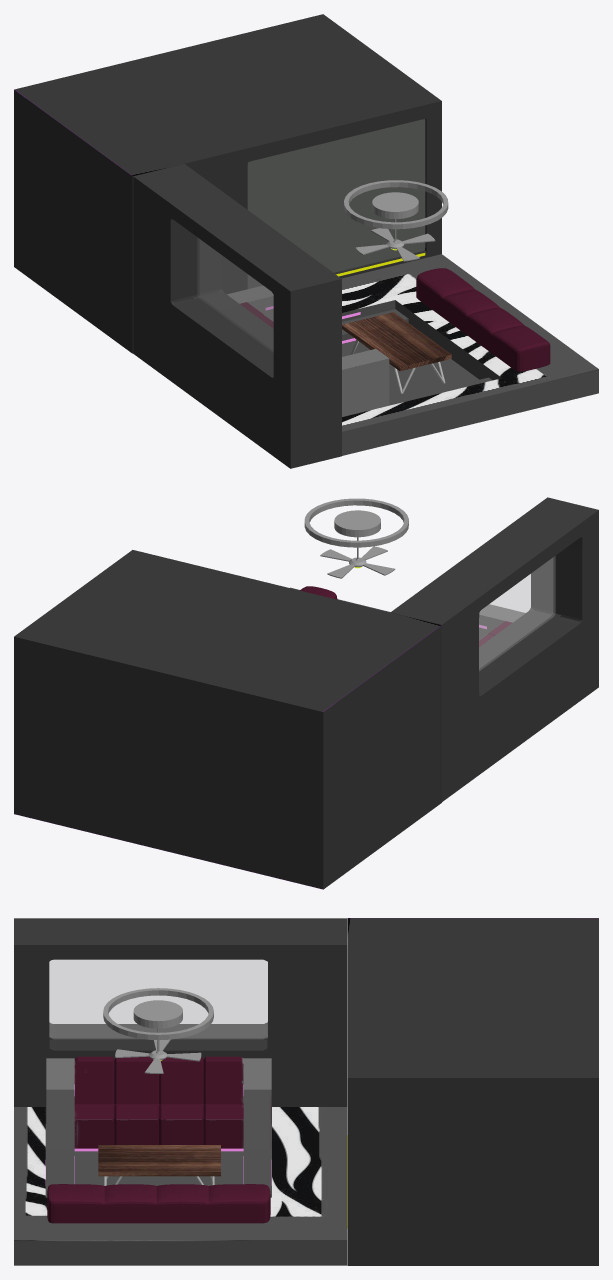
Rendered from delosReyes_3dEnvironmentReference.gltf.
The picture shows the model from 3 angles, top to bottom: view 1: azimuth 30°, elevation 25°; view 2: azimuth 150°, elevation 25°; view 3: azimuth 270°, elevation 25°; orthographic projection. The views are drawn at different scales.
Parts seen in each view (by area): view 1: bedroom, window, floor, bedroomDoor, couch_2, glass, couch, table, fanSupport, ceilingFan; view 2: bedroom, window, glass, fanSupport, couch, ceilingFan; view 3: bedroom, window, floor, couch, glass, couch_2, table, fanSupport, ceilingFan.
Boxes of the visible parts, x1=… form: bedroom: x1=14, y1=14, x2=441, y2=353; window: x1=133, y1=164, x2=341, y2=468; floor: x1=341, y1=254, x2=598, y2=455; bedroomDoor: x1=247, y1=119, x2=425, y2=288; couch_2: x1=416, y1=268, x2=550, y2=371; glass: x1=197, y1=238, x2=273, y2=351; couch: x1=227, y1=285, x2=389, y2=416; table: x1=342, y1=312, x2=451, y2=393; fanSupport: x1=344, y1=180, x2=448, y2=242; ceilingFan: x1=355, y1=228, x2=435, y2=261; bedroom: x1=14, y1=550, x2=441, y2=889; window: x1=390, y1=497, x2=598, y2=801; glass: x1=479, y1=556, x2=555, y2=670; fanSupport: x1=304, y1=498, x2=408, y2=560; couch: x1=479, y1=604, x2=525, y2=646; ceilingFan: x1=320, y1=546, x2=395, y2=578; bedroom: x1=347, y1=918, x2=598, y2=1265; window: x1=14, y1=918, x2=347, y2=1123; floor: x1=14, y1=1107, x2=347, y2=1265; couch: x1=46, y1=1056, x2=271, y2=1158; glass: x1=49, y1=960, x2=267, y2=1038; couch_2: x1=47, y1=1184, x2=270, y2=1223; table: x1=98, y1=1145, x2=220, y2=1185; fanSupport: x1=103, y1=988, x2=213, y2=1053; ceilingFan: x1=115, y1=1039, x2=201, y2=1074.
Bounding box in the file's own units: 60.2 × 33 × 93.05.
13 materials, 8 textured.
